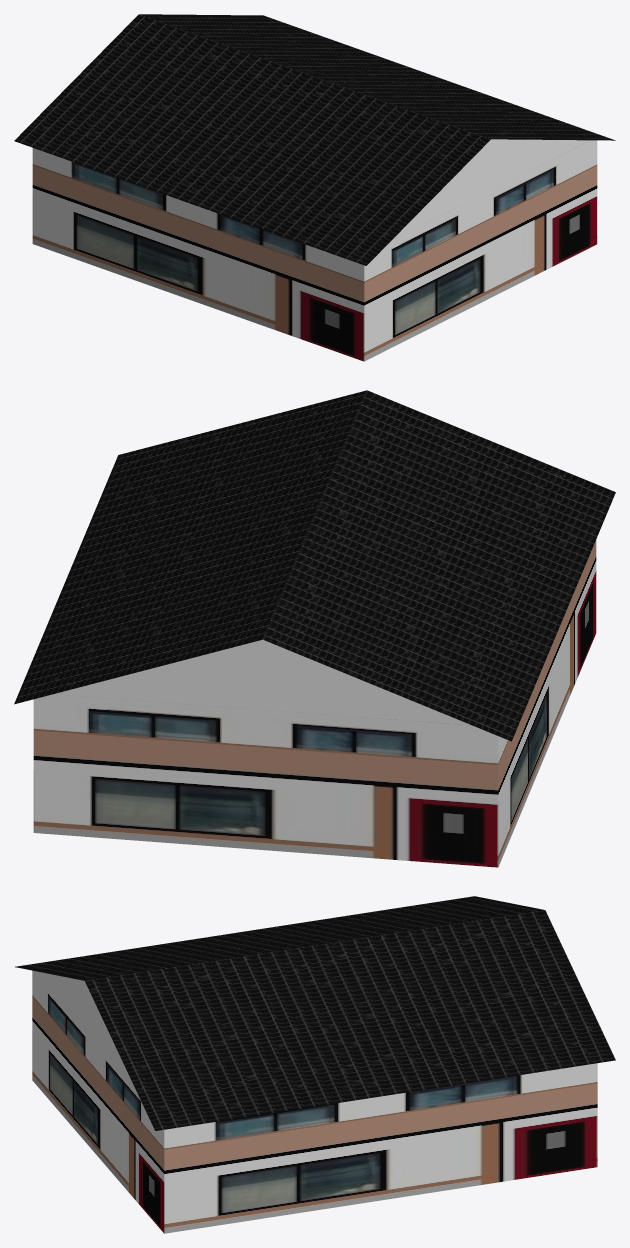
The picture shows the model from 3 angles, top to bottom: view 1: azimuth 30°, elevation 25°; view 2: azimuth 150°, elevation 25°; view 3: azimuth 270°, elevation 25°; orthographic projection. The views are drawn at different scales.
Parts seen in each view (by area): view 1: CityEngineMaterial_14_m, CityEngineMaterial_5_m, CityEngineMaterial_3_m; view 2: CityEngineMaterial_14_m, CityEngineMaterial_5_m, CityEngineMaterial_3_m; view 3: CityEngineMaterial_14_m, CityEngineMaterial_5_m, CityEngineMaterial_3_m.
Part boxes in pixels (box(x1,y1,x2,y2)): CityEngineMaterial_14_m: box(14, 14, 615, 265); CityEngineMaterial_5_m: box(32, 140, 597, 361); CityEngineMaterial_3_m: box(393, 139, 589, 239); CityEngineMaterial_14_m: box(14, 390, 615, 741); CityEngineMaterial_5_m: box(33, 540, 596, 867); CityEngineMaterial_3_m: box(54, 639, 471, 725); CityEngineMaterial_14_m: box(15, 896, 615, 1130); CityEngineMaterial_5_m: box(32, 970, 597, 1233); CityEngineMaterial_3_m: box(38, 971, 131, 1080).
Size of the model in its own units: 38.07 by 13.48 by 41.21.
